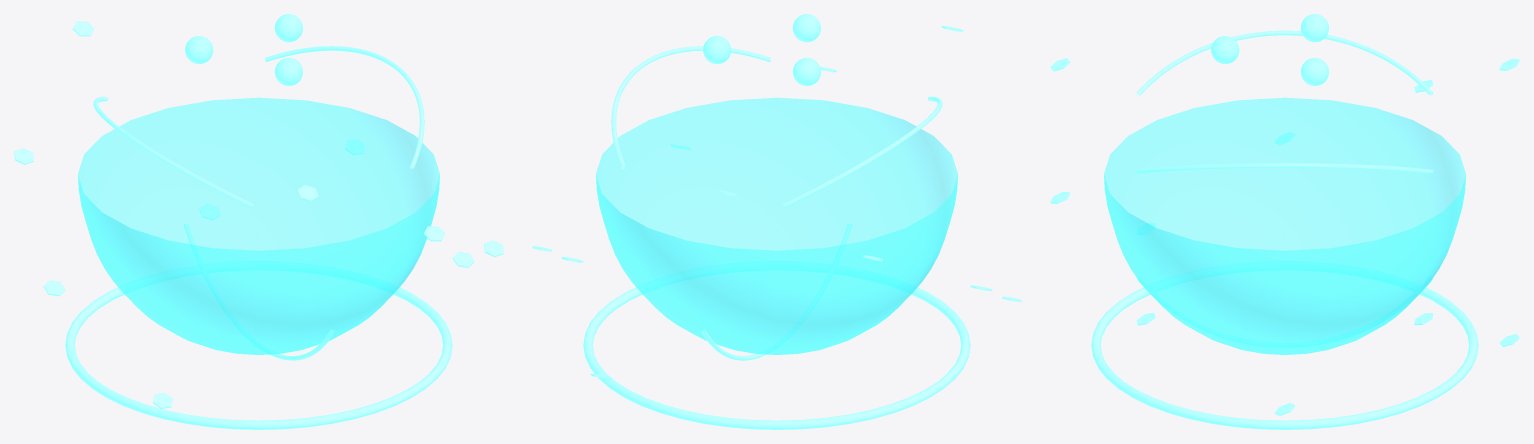
Rendered from vfx_shield_regen.glb.
The picture shows the model from 3 angles, left to right: view 1: azimuth 30°, elevation 25°; view 2: azimuth 150°, elevation 25°; view 3: azimuth 270°, elevation 25°; orthographic projection.
Parts seen in each view (by area): view 1: regen_shell, regen_ring, regen_seam1, regen_seam0, regen_seam2, regen_emitter_glow0, regen_emitter_glow2, regen_emitter_glow1; view 2: regen_shell, regen_ring, regen_seam1, regen_seam0, regen_seam2, regen_emitter_glow0, regen_emitter_glow1, regen_emitter_glow2; view 3: regen_shell, regen_ring, regen_seam1, regen_seam0, regen_seam2, regen_emitter_glow1, regen_emitter_glow2, regen_emitter_glow0.
Boxes of the visible parts, left/top/right/bottom form: regen_shell: left=78, top=97, right=439, bottom=354; regen_ring: left=65, top=261, right=452, bottom=429; regen_seam1: left=264, top=46, right=424, bottom=168; regen_seam0: left=183, top=223, right=334, bottom=360; regen_seam2: left=93, top=96, right=253, bottom=208; regen_emitter_glow0: left=274, top=57, right=302, bottom=85; regen_emitter_glow2: left=274, top=14, right=302, bottom=42; regen_emitter_glow1: left=185, top=36, right=213, bottom=64; regen_shell: left=596, top=97, right=957, bottom=354; regen_ring: left=583, top=261, right=970, bottom=429; regen_seam1: left=611, top=46, right=771, bottom=168; regen_seam0: left=701, top=223, right=852, bottom=360; regen_seam2: left=782, top=96, right=942, bottom=208; regen_emitter_glow0: left=792, top=14, right=820, bottom=42; regen_emitter_glow1: left=792, top=57, right=820, bottom=85; regen_emitter_glow2: left=703, top=36, right=731, bottom=64; regen_shell: left=1104, top=97, right=1465, bottom=354; regen_ring: left=1091, top=261, right=1478, bottom=429; regen_seam1: left=1136, top=163, right=1433, bottom=174; regen_seam0: left=1136, top=277, right=1433, bottom=347; regen_seam2: left=1136, top=30, right=1433, bottom=95; regen_emitter_glow1: left=1300, top=14, right=1328, bottom=42; regen_emitter_glow2: left=1300, top=57, right=1328, bottom=85; regen_emitter_glow0: left=1211, top=36, right=1239, bottom=64.
Bounding box in the file's own units: 3.12 × 2.19 × 2.98.
